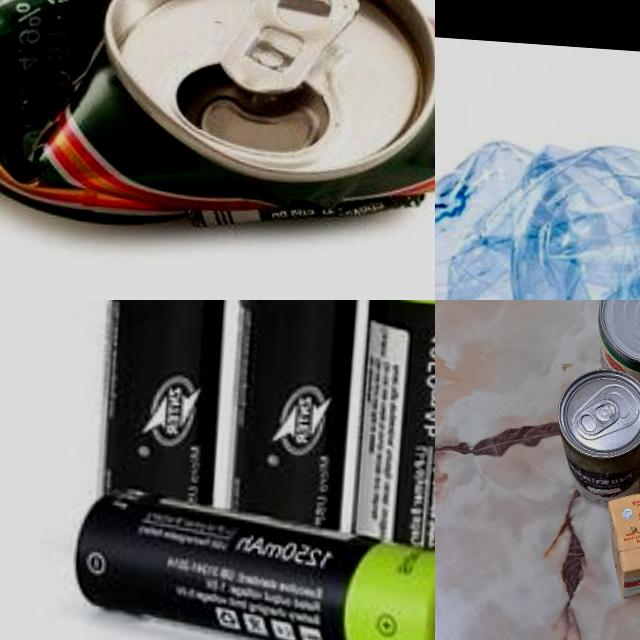aba de lata: (217, 0, 358, 98), (573, 396, 625, 441)
bateria: (64, 493, 435, 640), (226, 300, 370, 544), (98, 300, 230, 511), (350, 300, 435, 538)
caixinha: (601, 473, 640, 605)
garrafa plástica: (435, 131, 640, 300)
lata: (0, 0, 435, 253), (550, 362, 640, 504), (591, 300, 640, 421)
